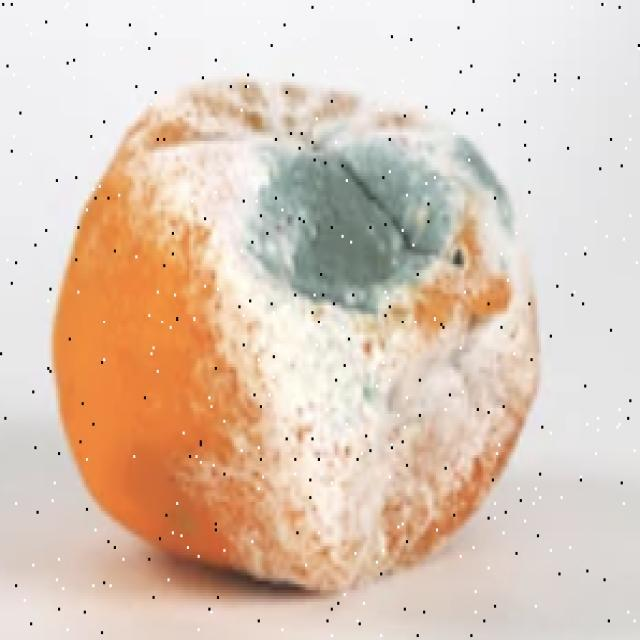sangat-busuk: (54, 76, 538, 590)
